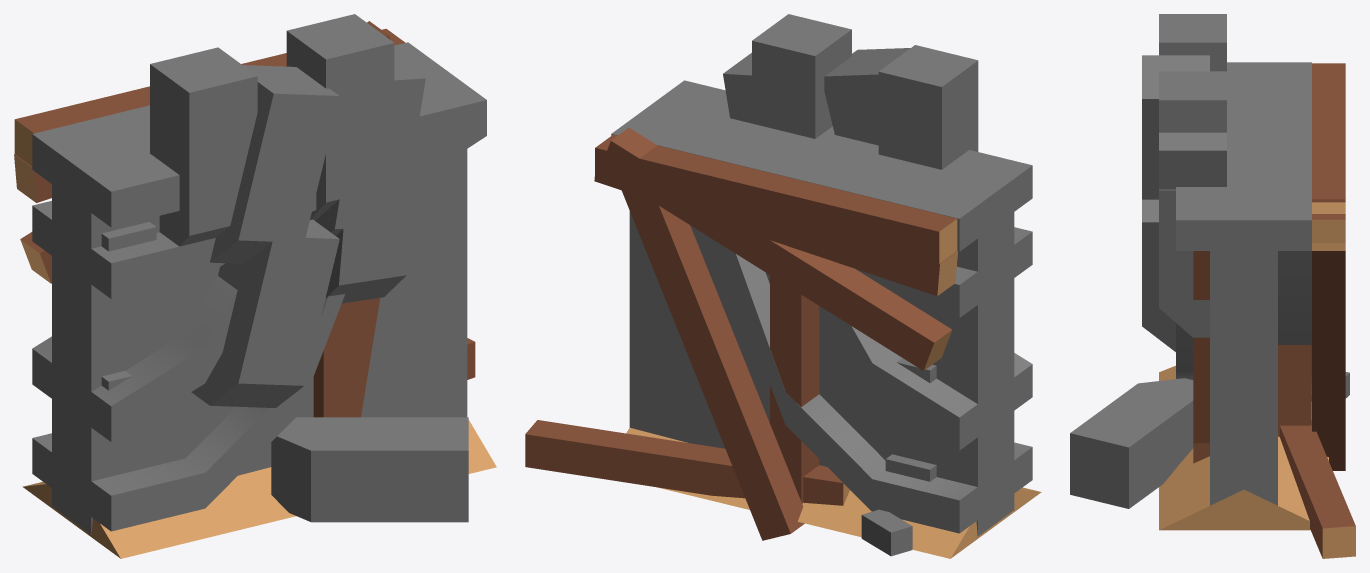
The model's file is Stone Wall 3.fbx.
3 views of the same model, side by side, from view 1: azimuth 30°, elevation 25°; view 2: azimuth 150°, elevation 25°; view 3: azimuth 270°, elevation 25° (orthographic). The views are drawn at different scales.
Parts seen in each view (by area): view 1: Wall, Destruction_phase_3, Destruction_phase_1, Destruction_phase_2; view 2: Wall, Destruction_phase_3, Destruction_phase_1, Destruction_phase_2; view 3: Wall, Destruction_phase_3, Destruction_phase_2, Destruction_phase_1.
Boxes of the visible parts, bbox=[...] form: Wall: bbox=[14, 14, 496, 558]; Destruction_phase_3: bbox=[32, 102, 486, 533]; Destruction_phase_1: bbox=[14, 65, 486, 533]; Destruction_phase_2: bbox=[20, 21, 425, 530]; Wall: bbox=[595, 14, 1041, 558]; Destruction_phase_3: bbox=[525, 173, 1032, 540]; Destruction_phase_1: bbox=[594, 48, 1032, 534]; Destruction_phase_2: bbox=[605, 53, 1032, 556]; Wall: bbox=[1159, 14, 1345, 530]; Destruction_phase_3: bbox=[1070, 189, 1355, 558]; Destruction_phase_2: bbox=[1142, 132, 1349, 401]; Destruction_phase_1: bbox=[1142, 55, 1345, 250].
Size of the model in its own units: 1.31 by 1.31 by 0.8408.
Materials: 1 (1 with a texture image).
